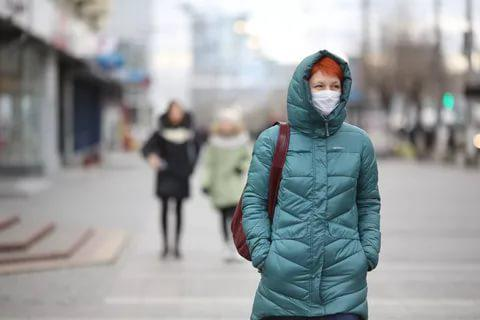mask: (307, 62, 343, 115)
